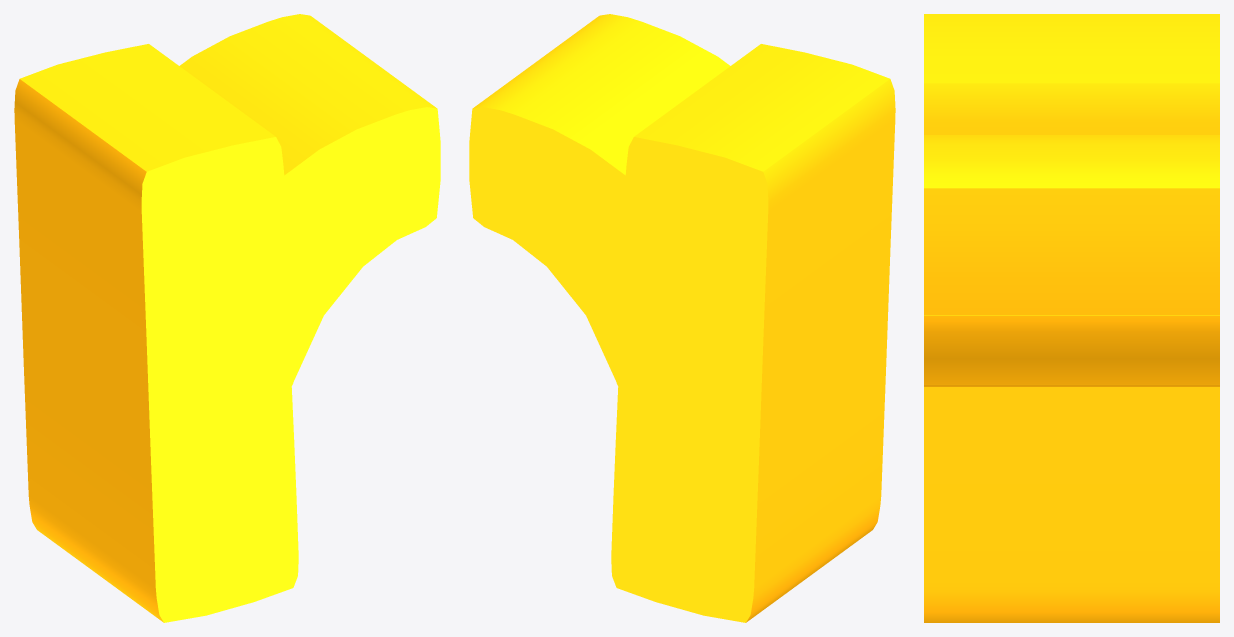
Rendered from R_Zyzol_Yellow.glb.
3 views of the same model, side by side, from view 1: azimuth 30°, elevation 25°; view 2: azimuth 150°, elevation 25°; view 3: azimuth 270°, elevation 25° (orthographic). The views are drawn at different scales.
Parts seen in each view (by area): view 1: r_Zyzol_Yellow; view 2: r_Zyzol_Yellow; view 3: r_Zyzol_Yellow.
Boxes of the visible parts, x1,y1,x2,y2 form: r_Zyzol_Yellow: [14, 14, 440, 622]; r_Zyzol_Yellow: [469, 14, 895, 622]; r_Zyzol_Yellow: [924, 14, 1219, 622].
Size of what is drawn, in the model's own units: 0.0611 by 0.0906 by 0.045.
Materials: 2 (2 with a texture image).
